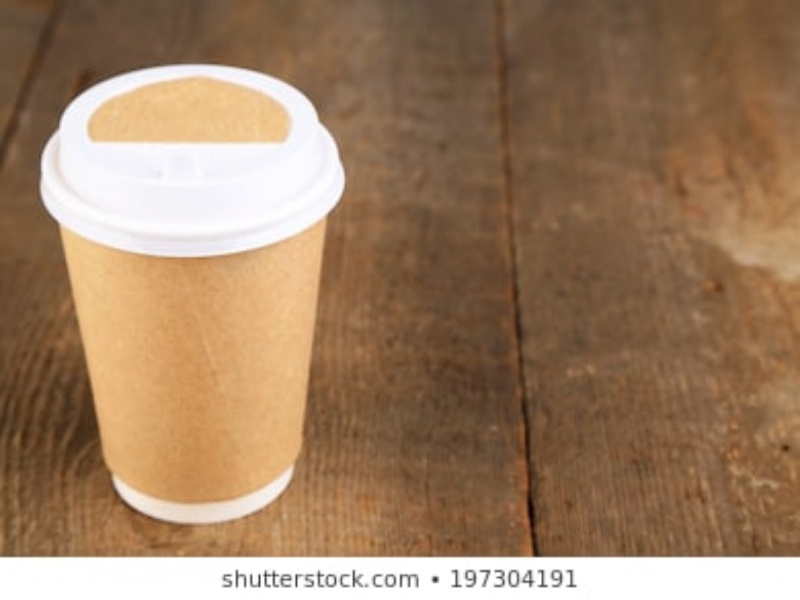coffee-lid: (43, 63, 352, 256)
plastic-cup: (39, 60, 347, 529)
